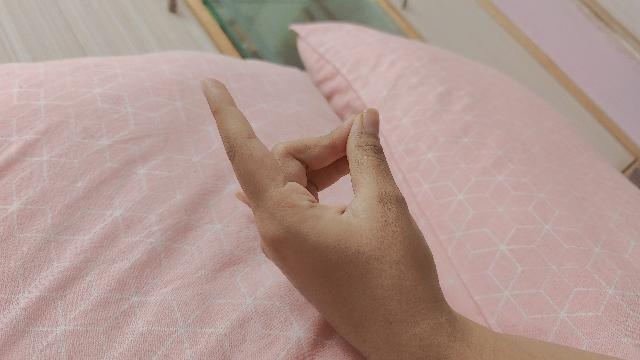sinhamukh: (197, 77, 619, 360)
